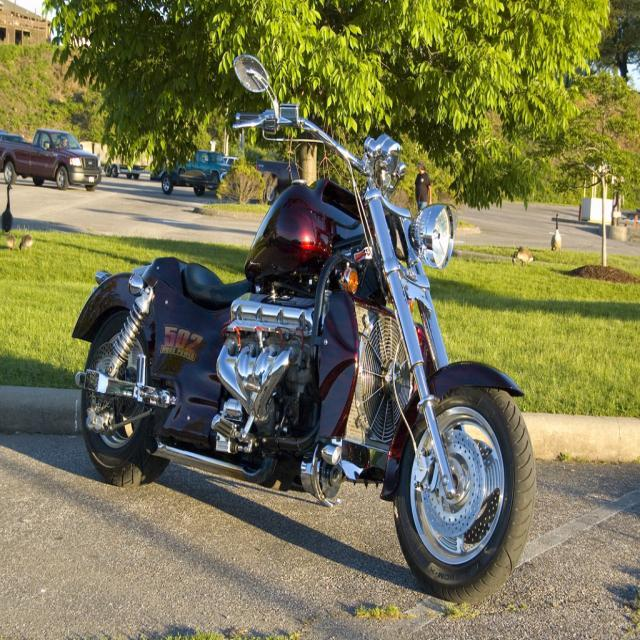bus: (71, 49, 538, 608)
